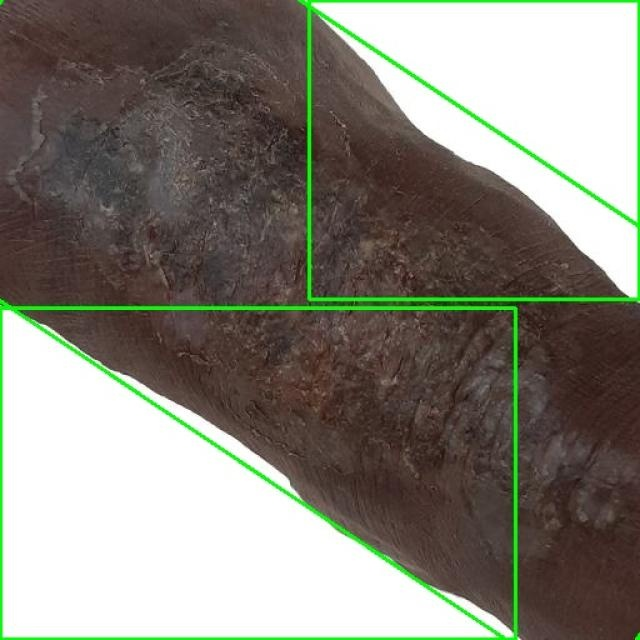Contact Dermatitis: (0, 0, 640, 640), (0, 308, 515, 639), (309, 0, 639, 299)
